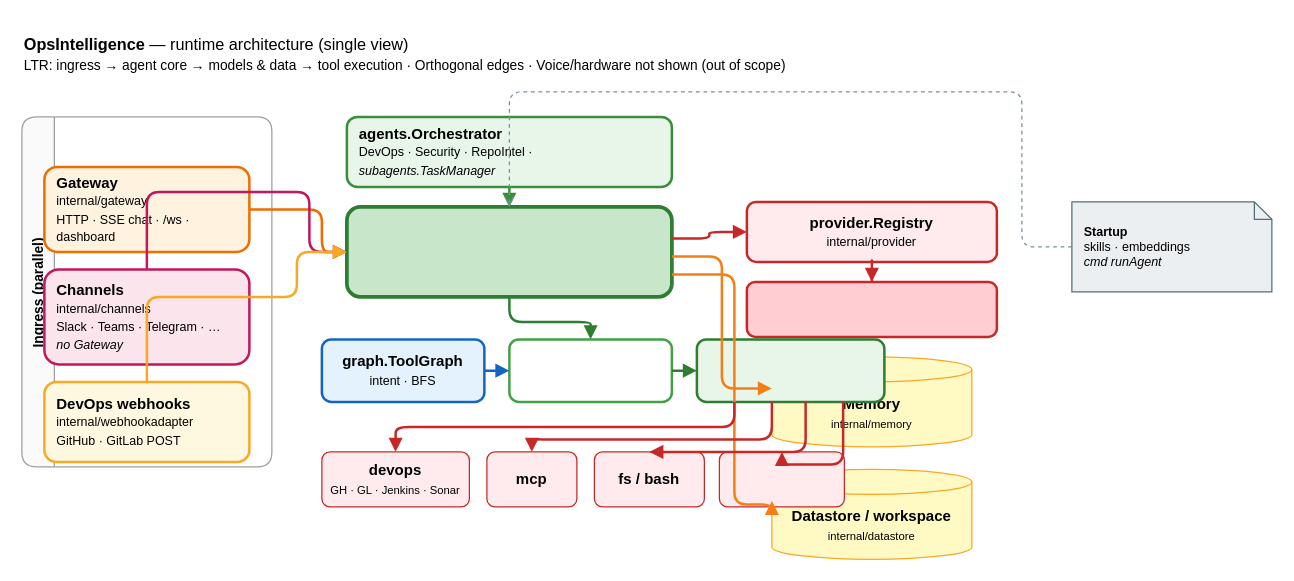
Some shapes in this 1294 by 581 pixel diagram are drawn without their labels. The shapes that lost their labels are listed below. From the top down, each one's centre as x and y in pixels, then its label:
At point 508,251: "agent.Runner Run · RunStream · ToolCatalog (tools.Catalog + graph)".
At point 871,309: "LLM backends Stream / Complete".
At point 590,370: "tools.Catalog SelectForRequest".
At point 790,370: "ToolRegistry internal/agent".
At point 781,479: "subagent tools".
